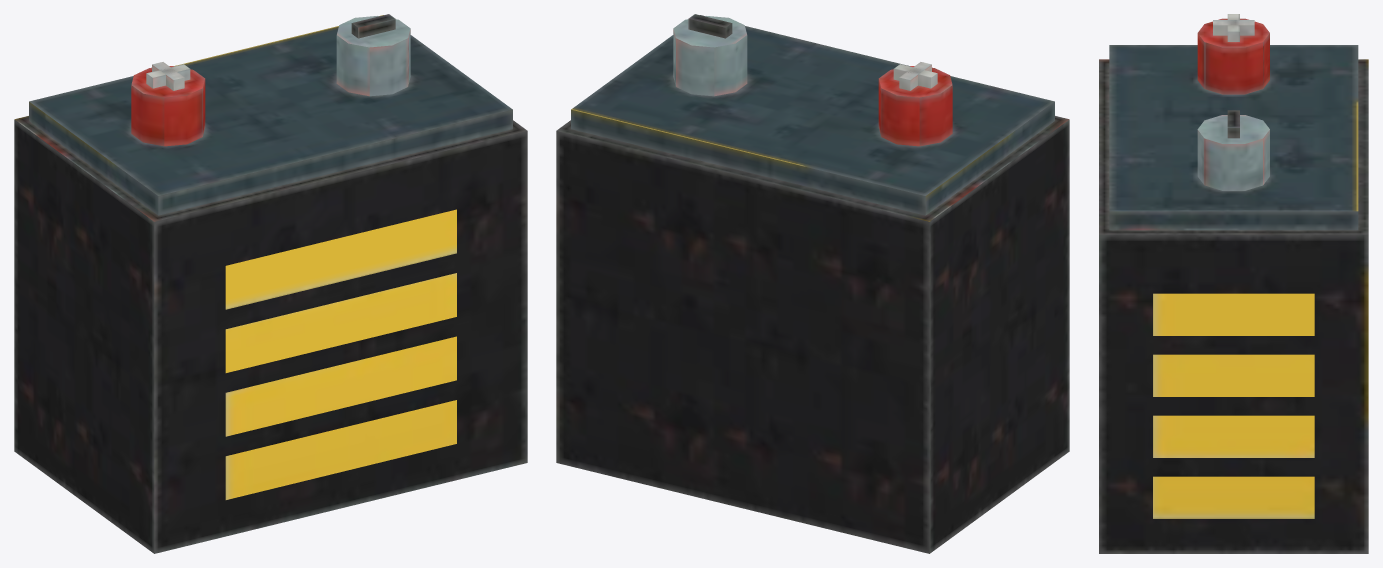
Rendered from energy.glb.
The picture shows the model from 3 angles, left to right: view 1: azimuth 30°, elevation 25°; view 2: azimuth 150°, elevation 25°; view 3: azimuth 270°, elevation 25°; orthographic projection. The views are drawn at different scales.
Parts seen in each view (by area): view 1: te_res_energy; view 2: te_res_energy; view 3: te_res_energy.
Part boxes in pixels (x1,y1,x2,y2): te_res_energy: [14, 14, 527, 553]; te_res_energy: [556, 14, 1069, 553]; te_res_energy: [1099, 14, 1368, 553].
Size of the model in its own units: 0.4006 by 0.421 by 0.2606.
1 material, 1 textured.
